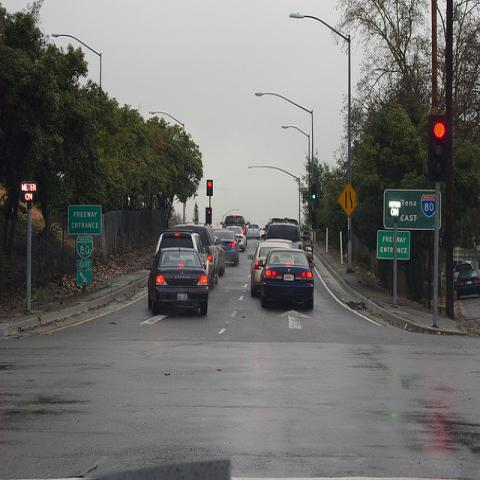car: (145, 249, 208, 315), (258, 248, 315, 310), (156, 229, 214, 286), (171, 224, 220, 284), (246, 241, 296, 297), (261, 222, 304, 249), (213, 231, 240, 266), (227, 226, 246, 252), (214, 237, 226, 277), (219, 216, 246, 232), (247, 223, 260, 240)
